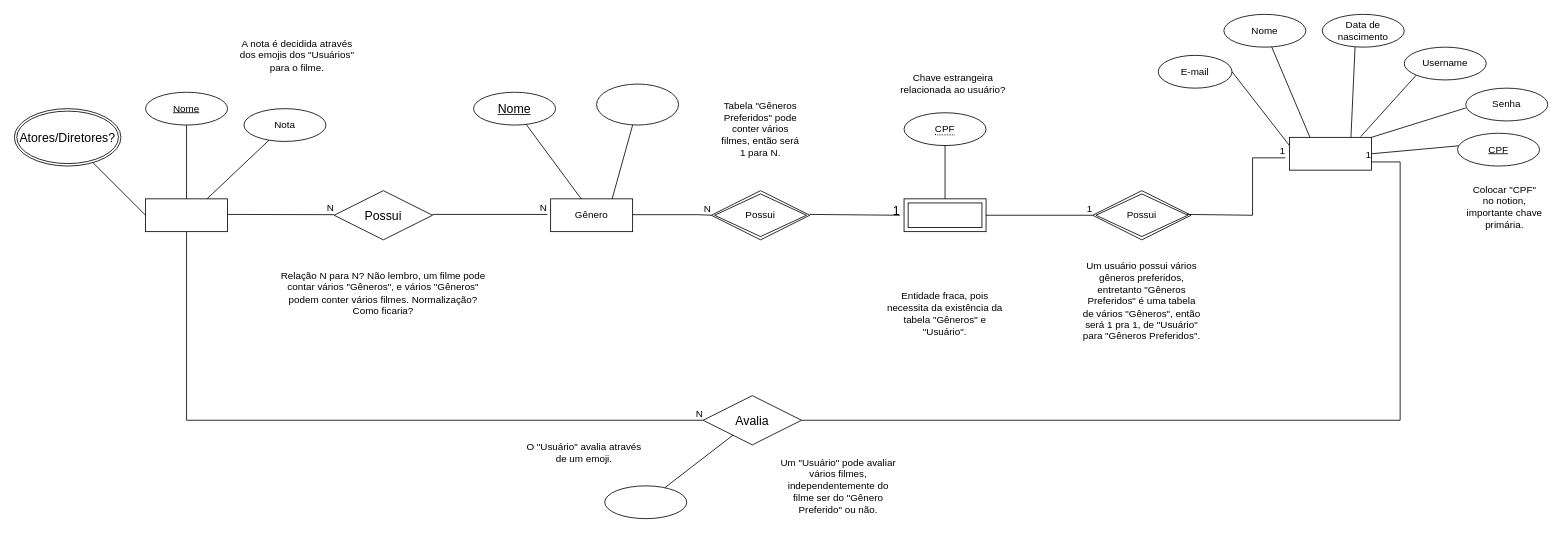
The diagram is 1562 pixels wide and 533 high, and some of its shapes have lost their labels. Here are the shapes that lost their labels. From the top down, the centre of each, then its label:
At (637,104): "Descrição de gênero".
At (1330,153): "Usuário".
At (186,215): "Filme".
At (944,215): "Gêneros Preferidos".
At (645,502): "Emoji".
